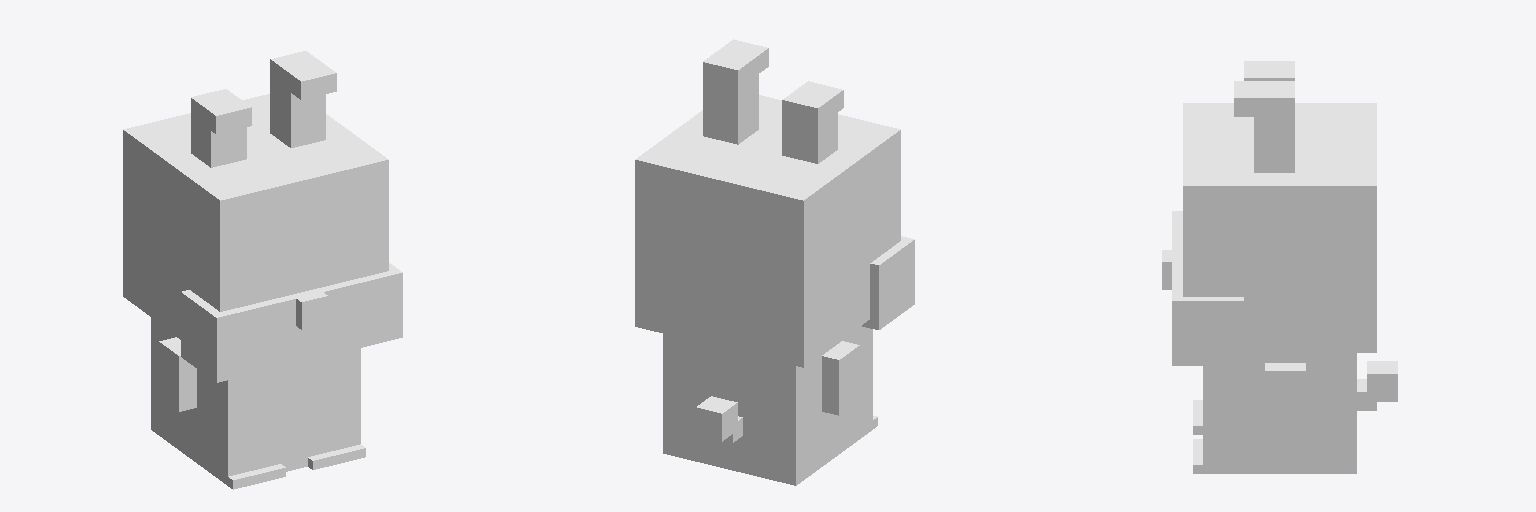
3 views of the same model, side by side, from view 1: azimuth 30°, elevation 25°; view 2: azimuth 150°, elevation 25°; view 3: azimuth 270°, elevation 25° (orthographic).
Parts seen in each view (by area): view 1: 톡히2; view 2: 톡히2; view 3: 톡히2.
Boxes of the visible parts, <box> form: 톡히2: <box>123,51,402,489</box>; 톡히2: <box>635,39,914,485</box>; 톡히2: <box>1162,61,1397,473</box>.
Size of the model in its own units: 21 by 40 by 23.